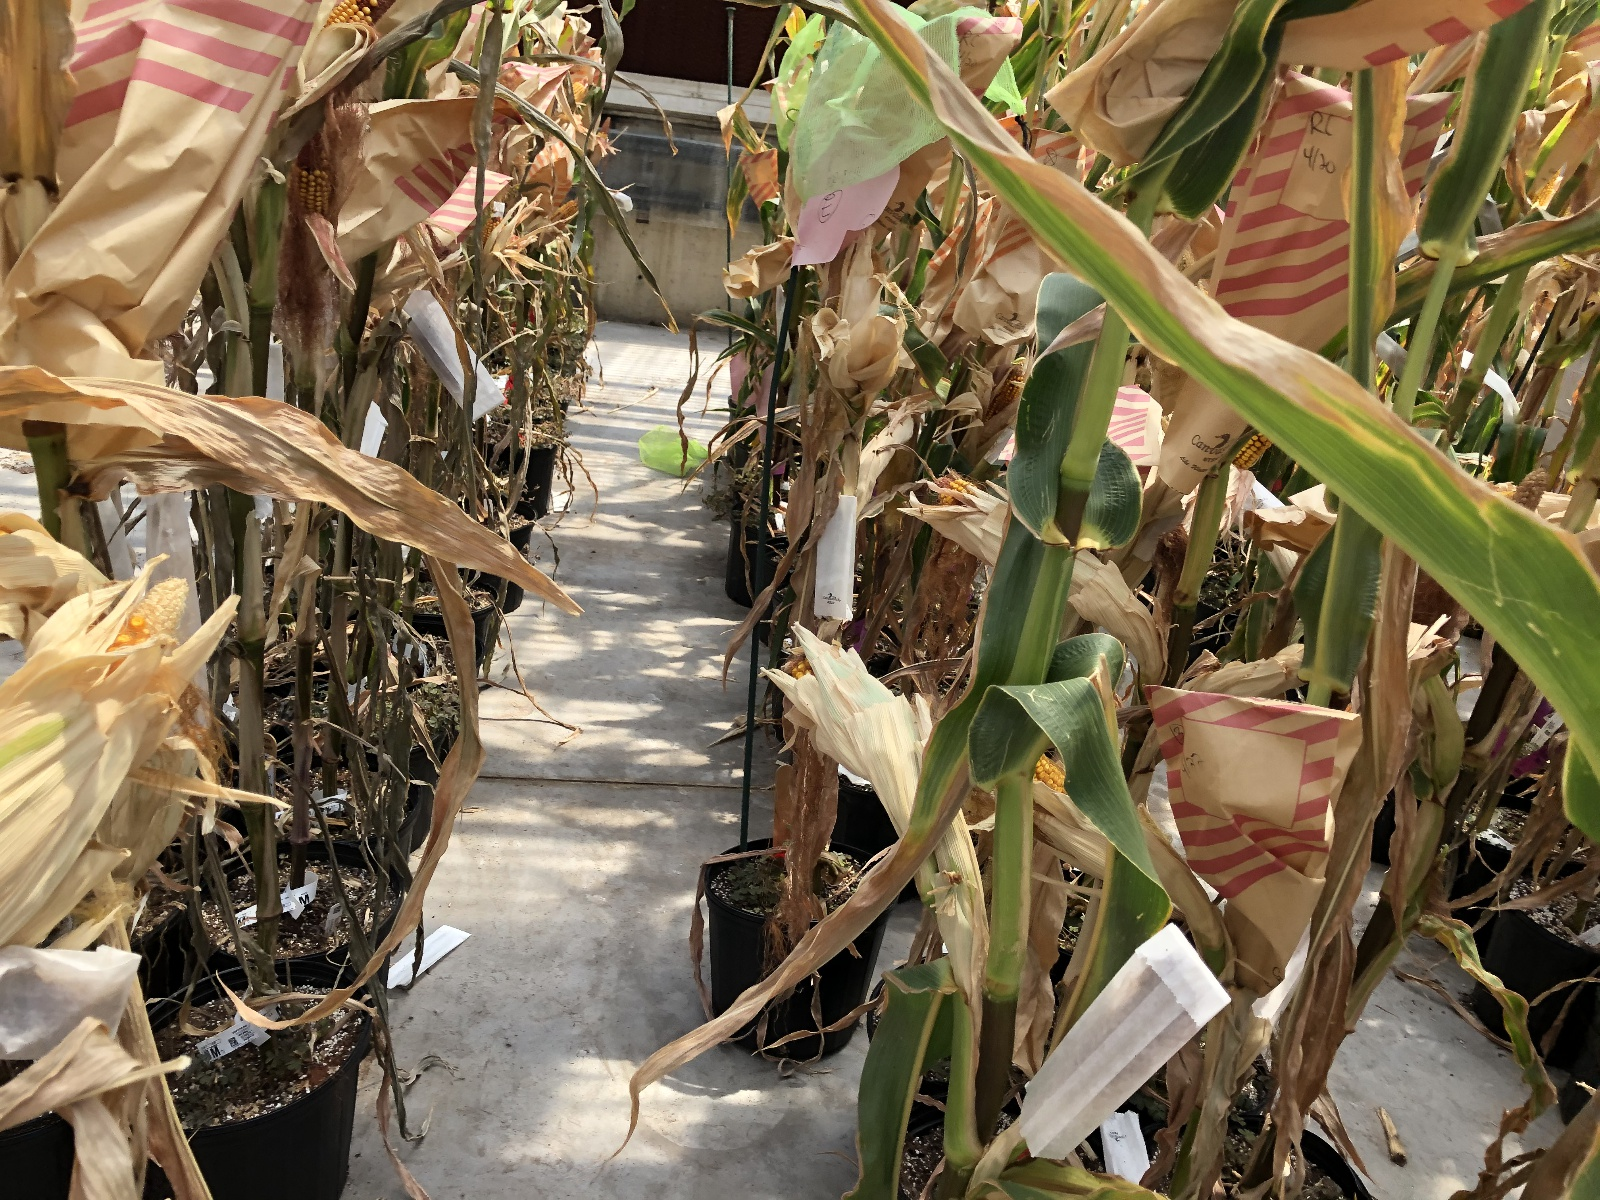ear: (1, 562, 197, 908), (774, 609, 994, 897), (923, 471, 1153, 645), (1032, 753, 1116, 872), (283, 126, 333, 281), (978, 358, 1020, 431), (476, 192, 513, 276), (314, 5, 392, 44), (535, 189, 590, 239), (1516, 456, 1548, 517), (1235, 429, 1274, 471), (563, 77, 590, 112)
